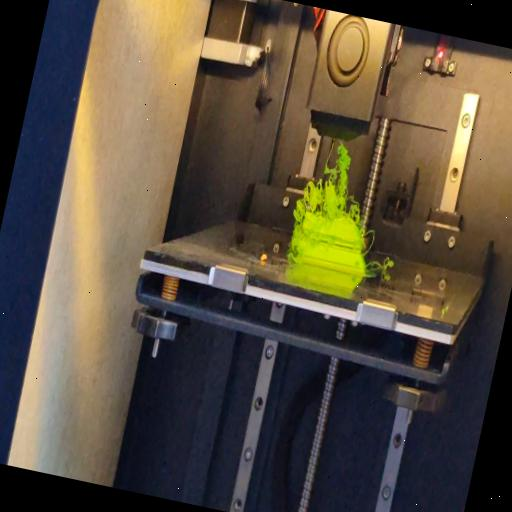spaghetti: (294, 131, 380, 226), (368, 252, 394, 274), (362, 228, 375, 258), (288, 247, 300, 263)
